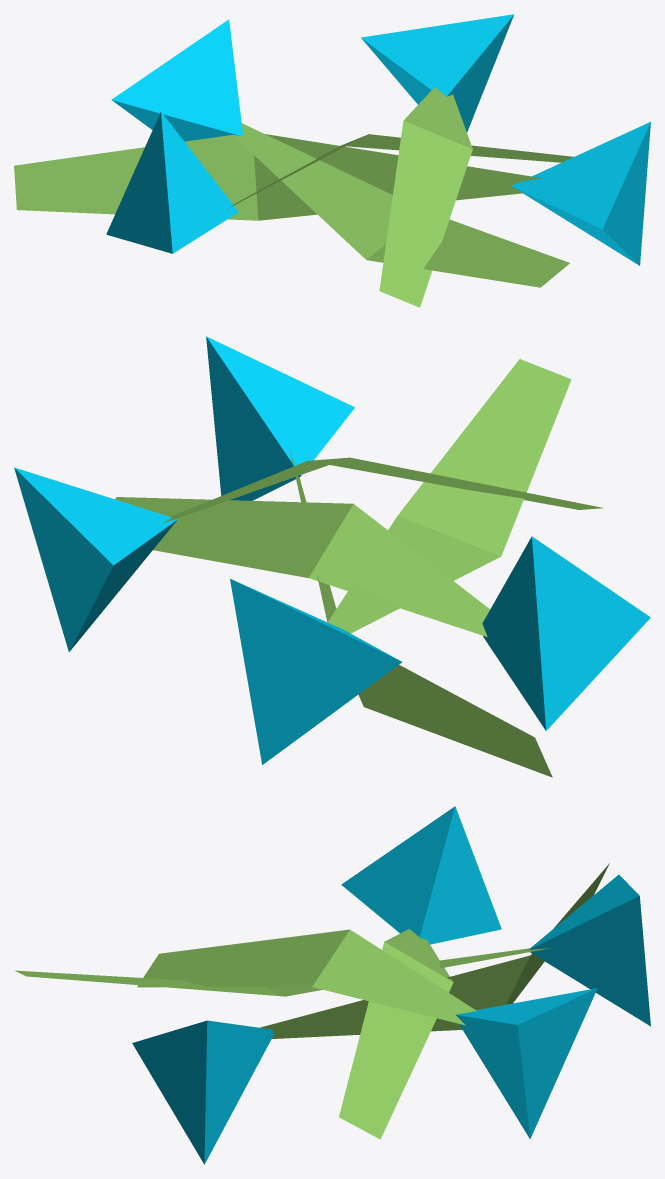
Rendered from flax-item.glb.
3 renders of one model, top to bottom at view 1: azimuth 30°, elevation 25°; view 2: azimuth 150°, elevation 25°; view 3: azimuth 270°, elevation 25°, orthographic. The views are drawn at different scales.
Visible parts, largest first — view 1: Cone.002; view 2: Cone.002; view 3: Cone.002.
Boxes of the visible parts, bbox=[...] form: Cone.002: bbox=[14, 14, 650, 307]; Cone.002: bbox=[14, 336, 650, 777]; Cone.002: bbox=[15, 806, 650, 1164].
Bounding box in the file's own units: 0.6912 × 0.2227 × 0.76.
